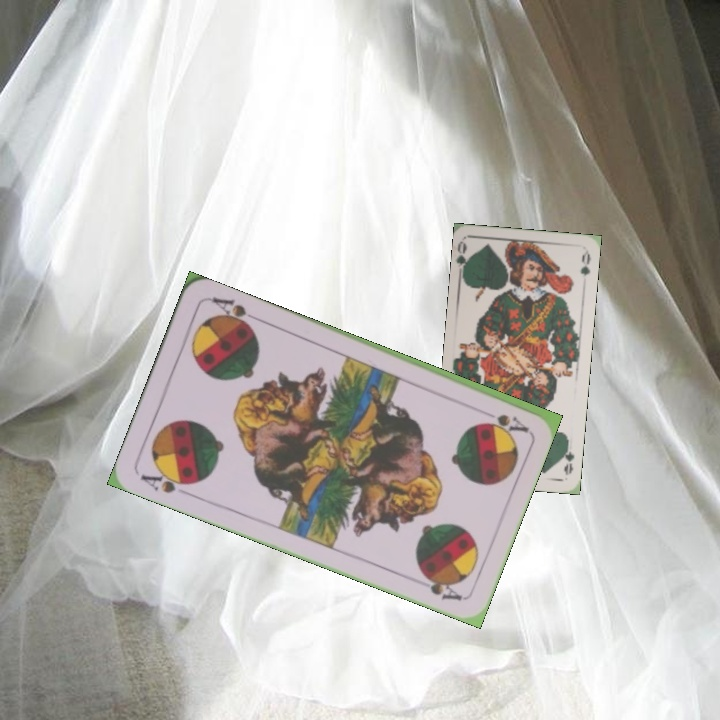GO: (454, 238, 474, 279), (558, 437, 577, 477)
SA: (136, 465, 197, 498), (473, 404, 530, 435)
